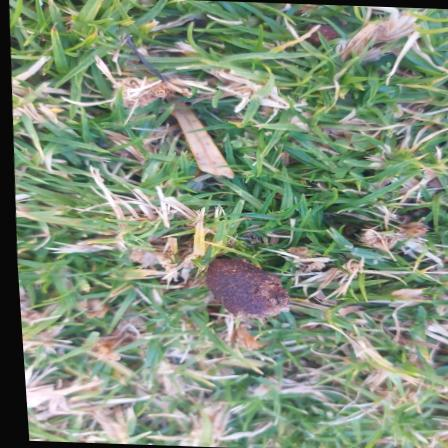dog-poop: (182, 253, 299, 332)
